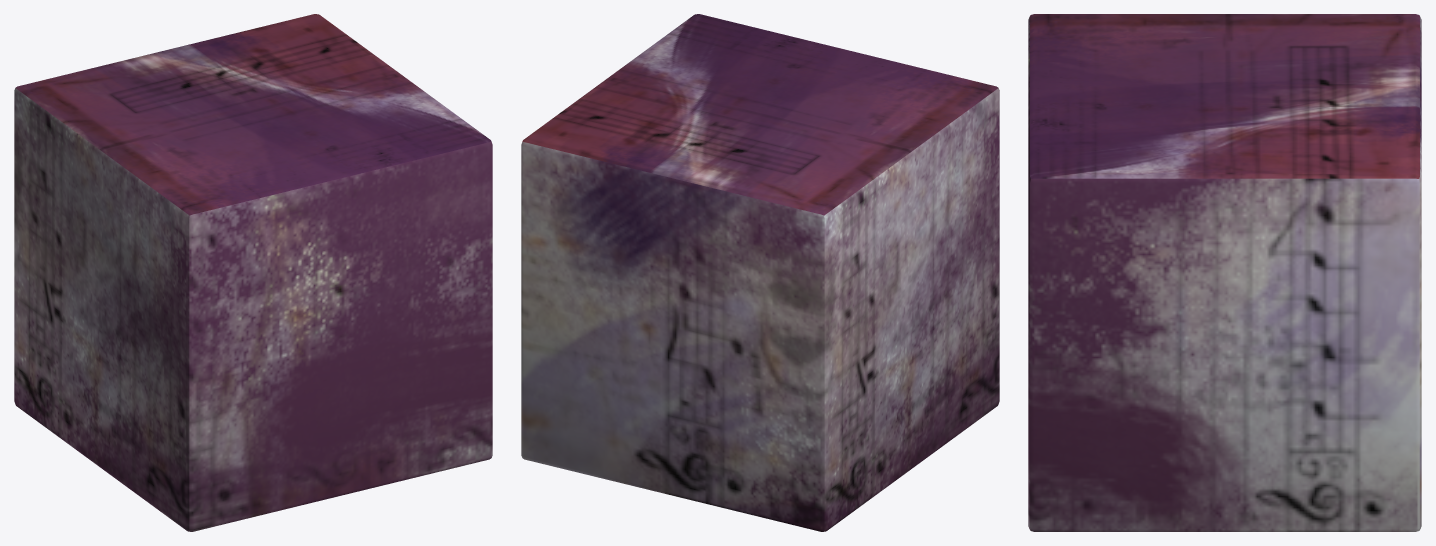
The model's file is MANOR_GROUND_1_004.obj.
3 renders of one model, left to right at view 1: azimuth 30°, elevation 25°; view 2: azimuth 150°, elevation 25°; view 3: azimuth 270°, elevation 25°, orthographic. The views are drawn at different scales.
Visible parts, largest first — view 1: MANOR_GROUND_1_004; view 2: MANOR_GROUND_1_004; view 3: MANOR_GROUND_1_004.
Boxes of the visible parts, left/top/right/bottom form: MANOR_GROUND_1_004: left=14, top=14, right=492, bottom=531; MANOR_GROUND_1_004: left=521, top=14, right=999, bottom=531; MANOR_GROUND_1_004: left=1028, top=14, right=1421, bottom=531.
Bounding box in the file's own units: 1 × 1 × 1.
